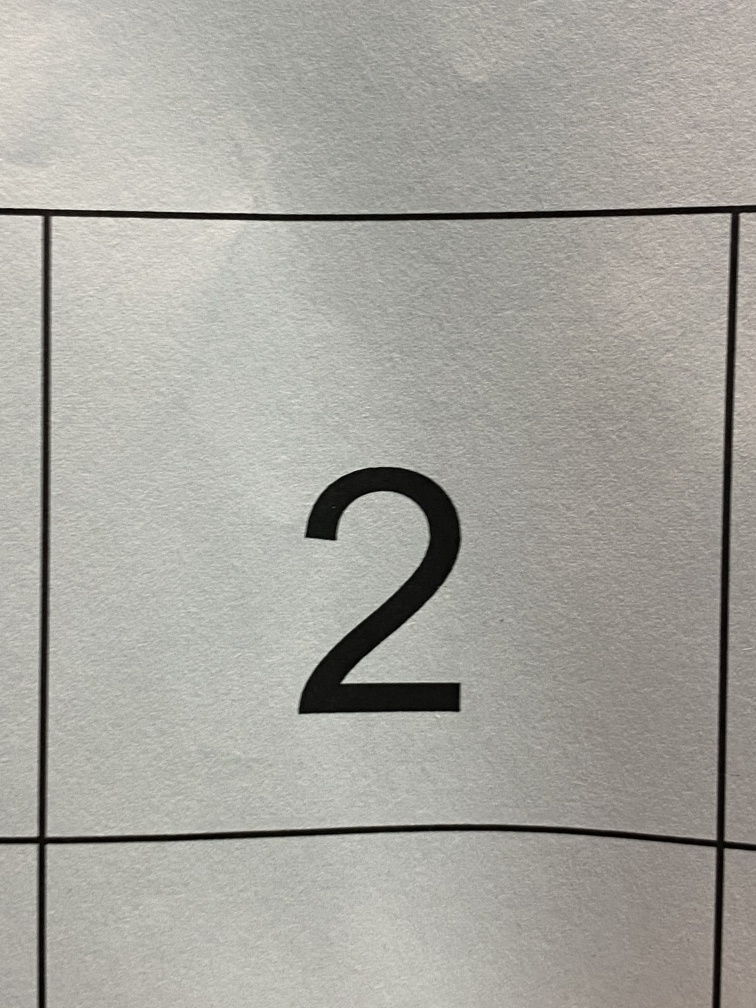two: (248, 400, 538, 801)
